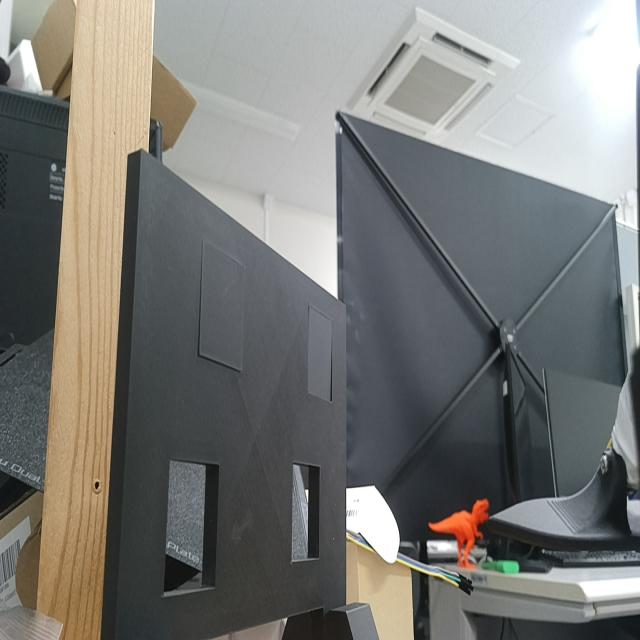Obstacle: (165, 462, 218, 595), (291, 464, 320, 560)
Wall: (115, 150, 347, 639)
